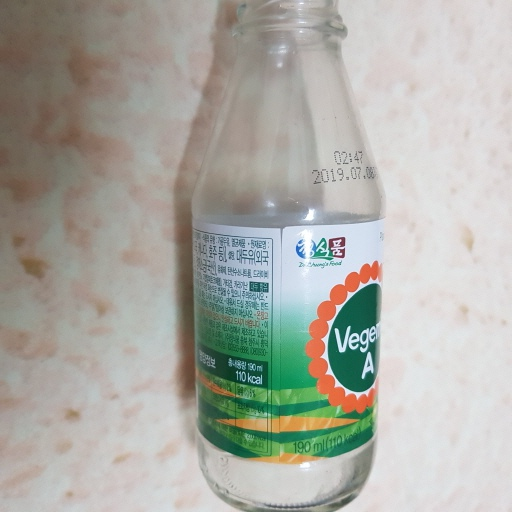Glass_4: (176, 2, 385, 512)
